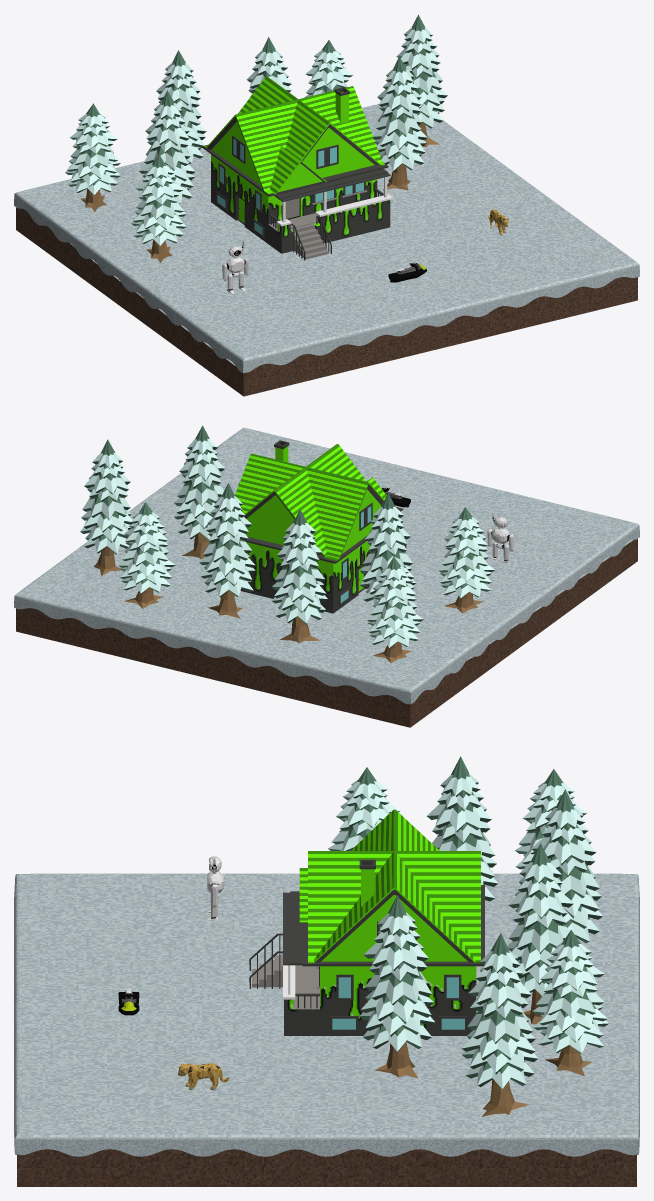
3 views of the same model, one above another, from view 1: azimuth 30°, elevation 25°; view 2: azimuth 150°, elevation 25°; view 3: azimuth 270°, elevation 25° (orthographic). The views are drawn at different scales.
Visible parts, largest first — view 1: Cube.003, Cube.754, OBJRANDOM_PLATZEEBOT; view 2: Cube.003, Cube.754, OBJRANDOM_PLATZEEBOT; view 3: Cube.003, Cube.754, ANIMAL_JAGUAR, OBJRANDOM_PLATZEEBOT.
Boxes of the visible parts, left/top/right/bottom form: Cube.003: left=14, top=14, right=639, bottom=396; Cube.754: left=202, top=76, right=393, bottom=260; OBJRANDOM_PLATZEEBOT: left=222, top=241, right=248, bottom=293; Cube.003: left=14, top=425, right=639, bottom=727; Cube.754: left=235, top=440, right=406, bottom=613; OBJRANDOM_PLATZEEBOT: left=487, top=512, right=513, bottom=563; Cube.003: left=14, top=756, right=639, bottom=1186; Cube.754: left=249, top=809, right=484, bottom=1035; ANIMAL_JAGUAR: left=178, top=1063, right=229, bottom=1090; OBJRANDOM_PLATZEEBOT: left=205, top=856, right=224, bottom=920.
Bounding box in the file's own units: 4040 × 1670 × 4040.
Materials: 30 (4 with a texture image).
